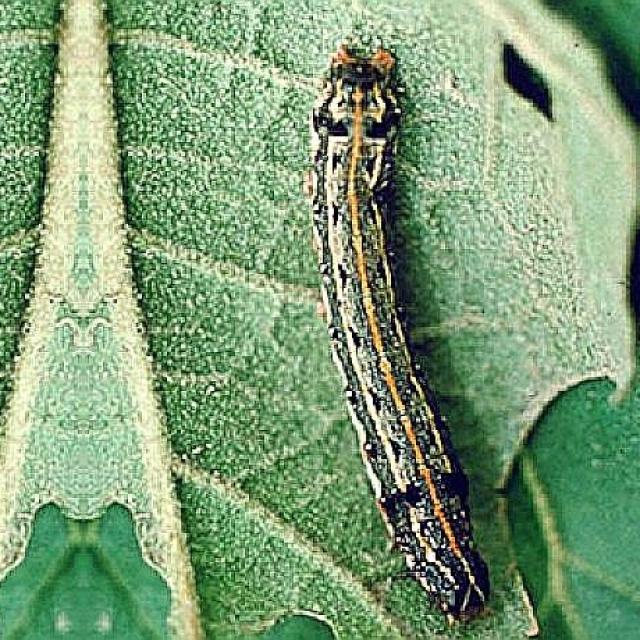Armyworm: (296, 30, 505, 636)
Armyworm_damage: (488, 39, 559, 132)
